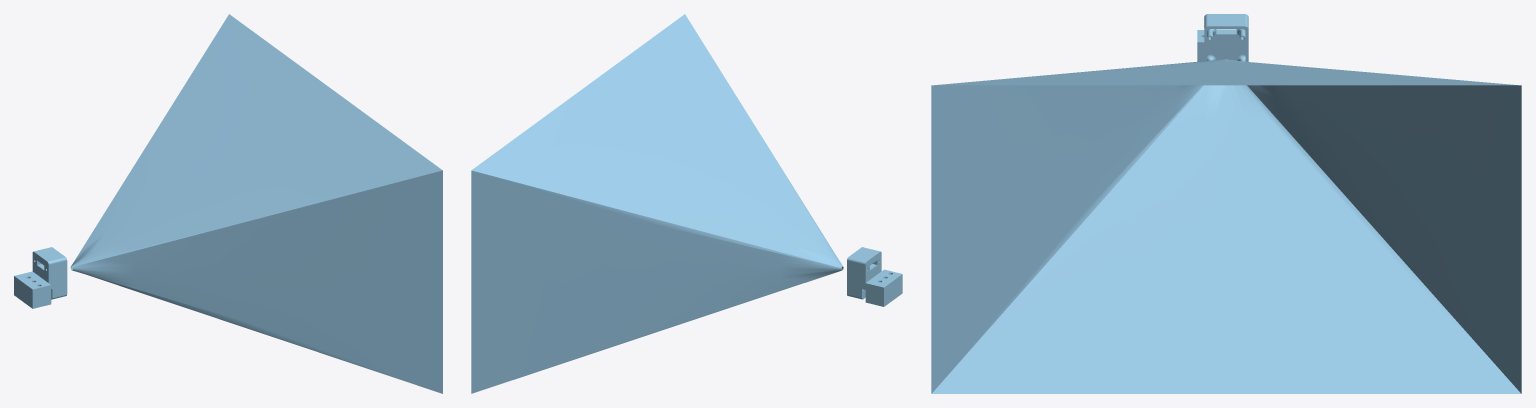
3 views of the same model, side by side, from view 1: azimuth 30°, elevation 25°; view 2: azimuth 150°, elevation 25°; view 3: azimuth 270°, elevation 25° (orthographic). The views are drawn at different scales.
Visible parts, largest first — view 1: Surface 1, Arducam mount; view 2: Surface 1, Arducam mount; view 3: Surface 1, Arducam mount.
Boxes of the visible parts, bbox=[...] form: Surface 1: bbox=[70, 14, 442, 393]; Arducam mount: bbox=[14, 247, 67, 308]; Surface 1: bbox=[471, 14, 843, 393]; Arducam mount: bbox=[847, 247, 902, 306]; Surface 1: bbox=[931, 59, 1521, 393]; Arducam mount: bbox=[1197, 14, 1248, 61].
Bounding box in the file's own units: 0.4308 × 0.2931 × 0.508.
